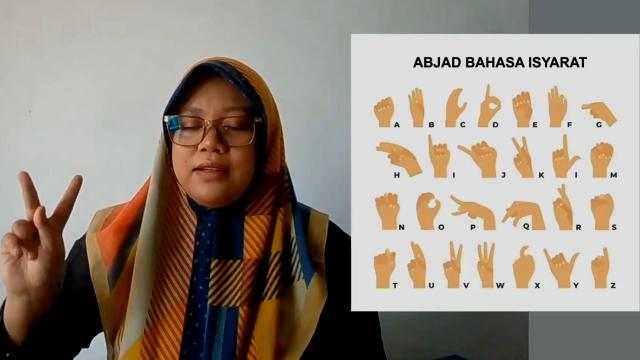K: (0, 172, 84, 308)
